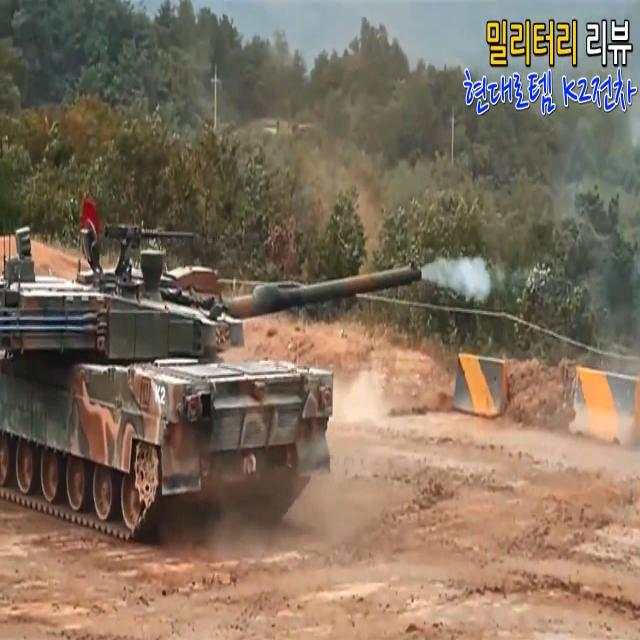korea tank: (1, 220, 423, 542)
